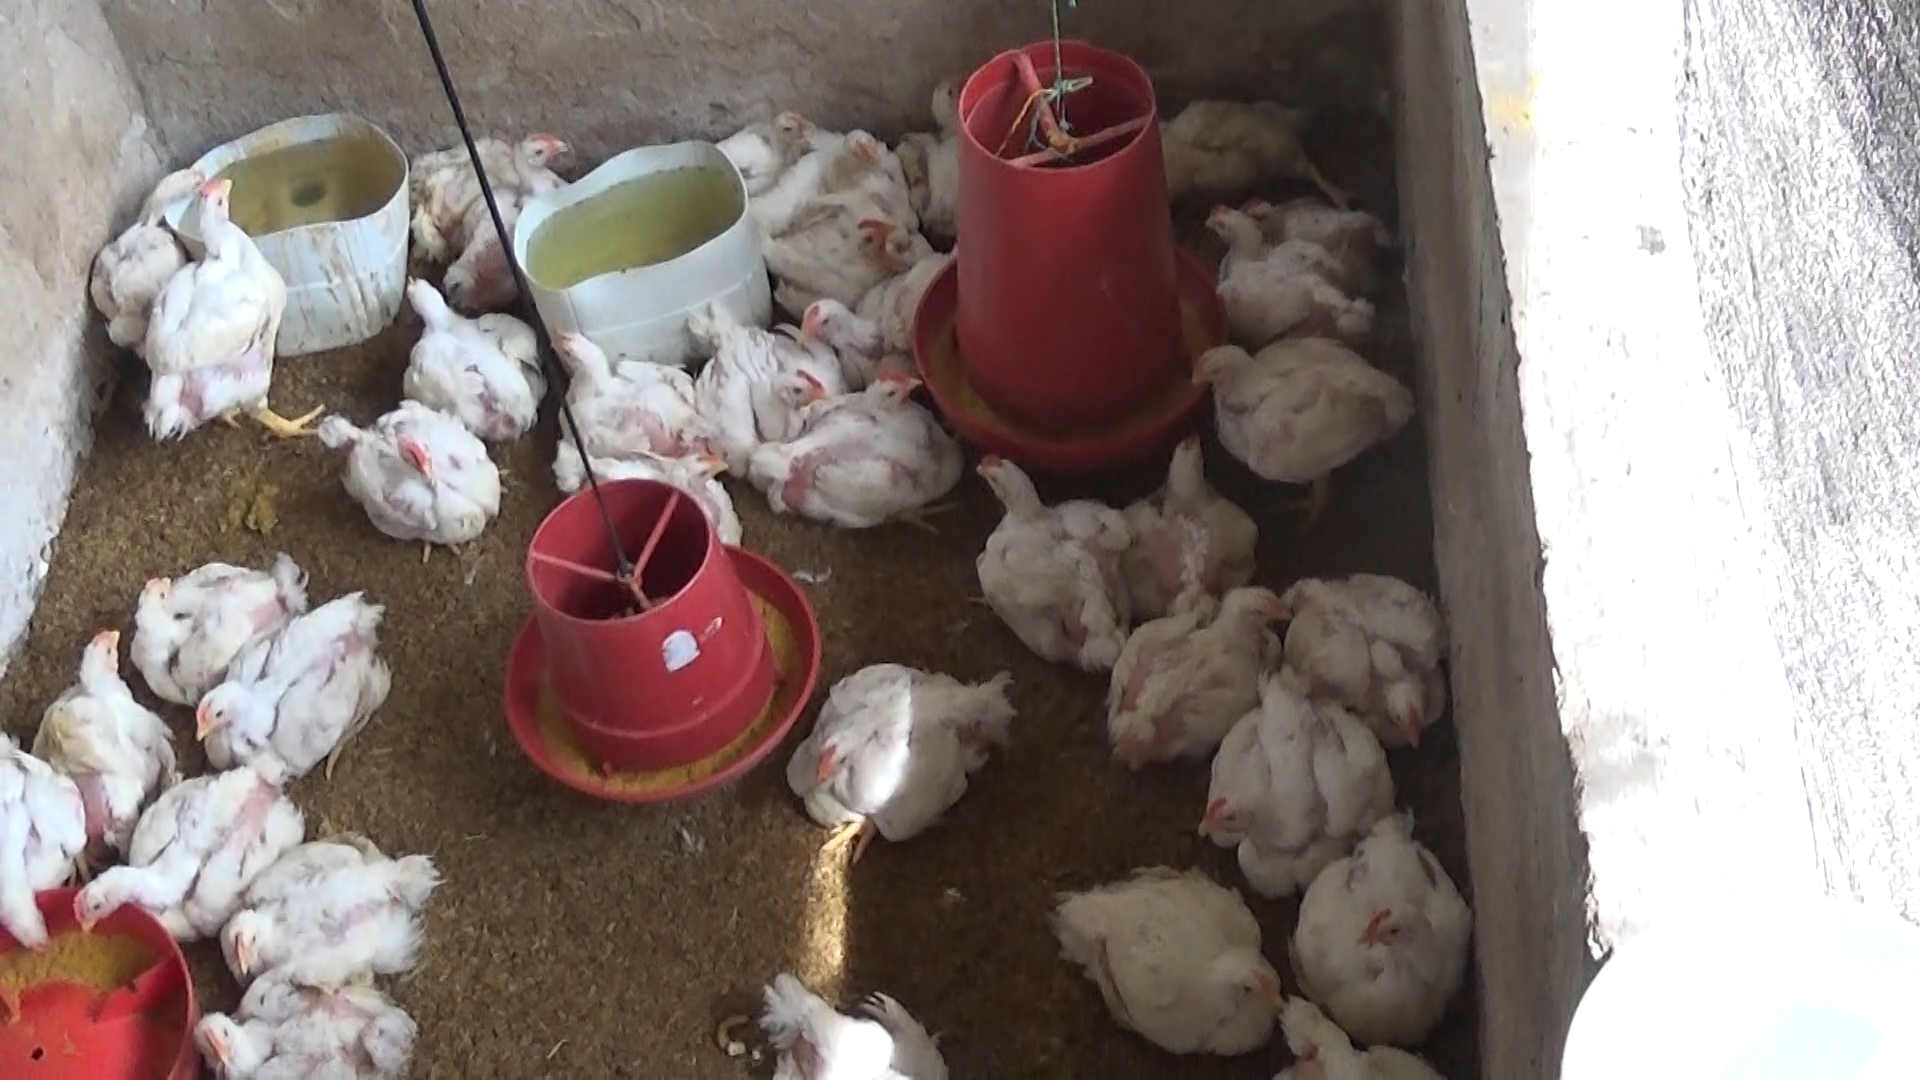Pollos: (1187, 662, 1395, 902), (1276, 803, 1477, 1038), (75, 742, 297, 948), (779, 653, 1017, 841), (136, 175, 287, 452), (1046, 873, 1273, 1054), (182, 585, 397, 775), (1092, 582, 1309, 769), (1182, 323, 1425, 481), (1156, 76, 1399, 233), (963, 448, 1133, 671), (216, 832, 448, 984), (752, 359, 963, 520), (1286, 563, 1452, 748), (34, 622, 177, 823), (545, 427, 761, 558), (385, 266, 545, 443), (82, 152, 218, 345), (1193, 198, 1367, 348), (179, 975, 426, 1080), (342, 400, 508, 549), (1117, 427, 1257, 603), (444, 127, 582, 297), (120, 558, 297, 684), (686, 309, 837, 448), (524, 320, 702, 436), (0, 728, 84, 959), (791, 268, 947, 377), (777, 215, 931, 324), (767, 117, 922, 215), (716, 103, 822, 167)
